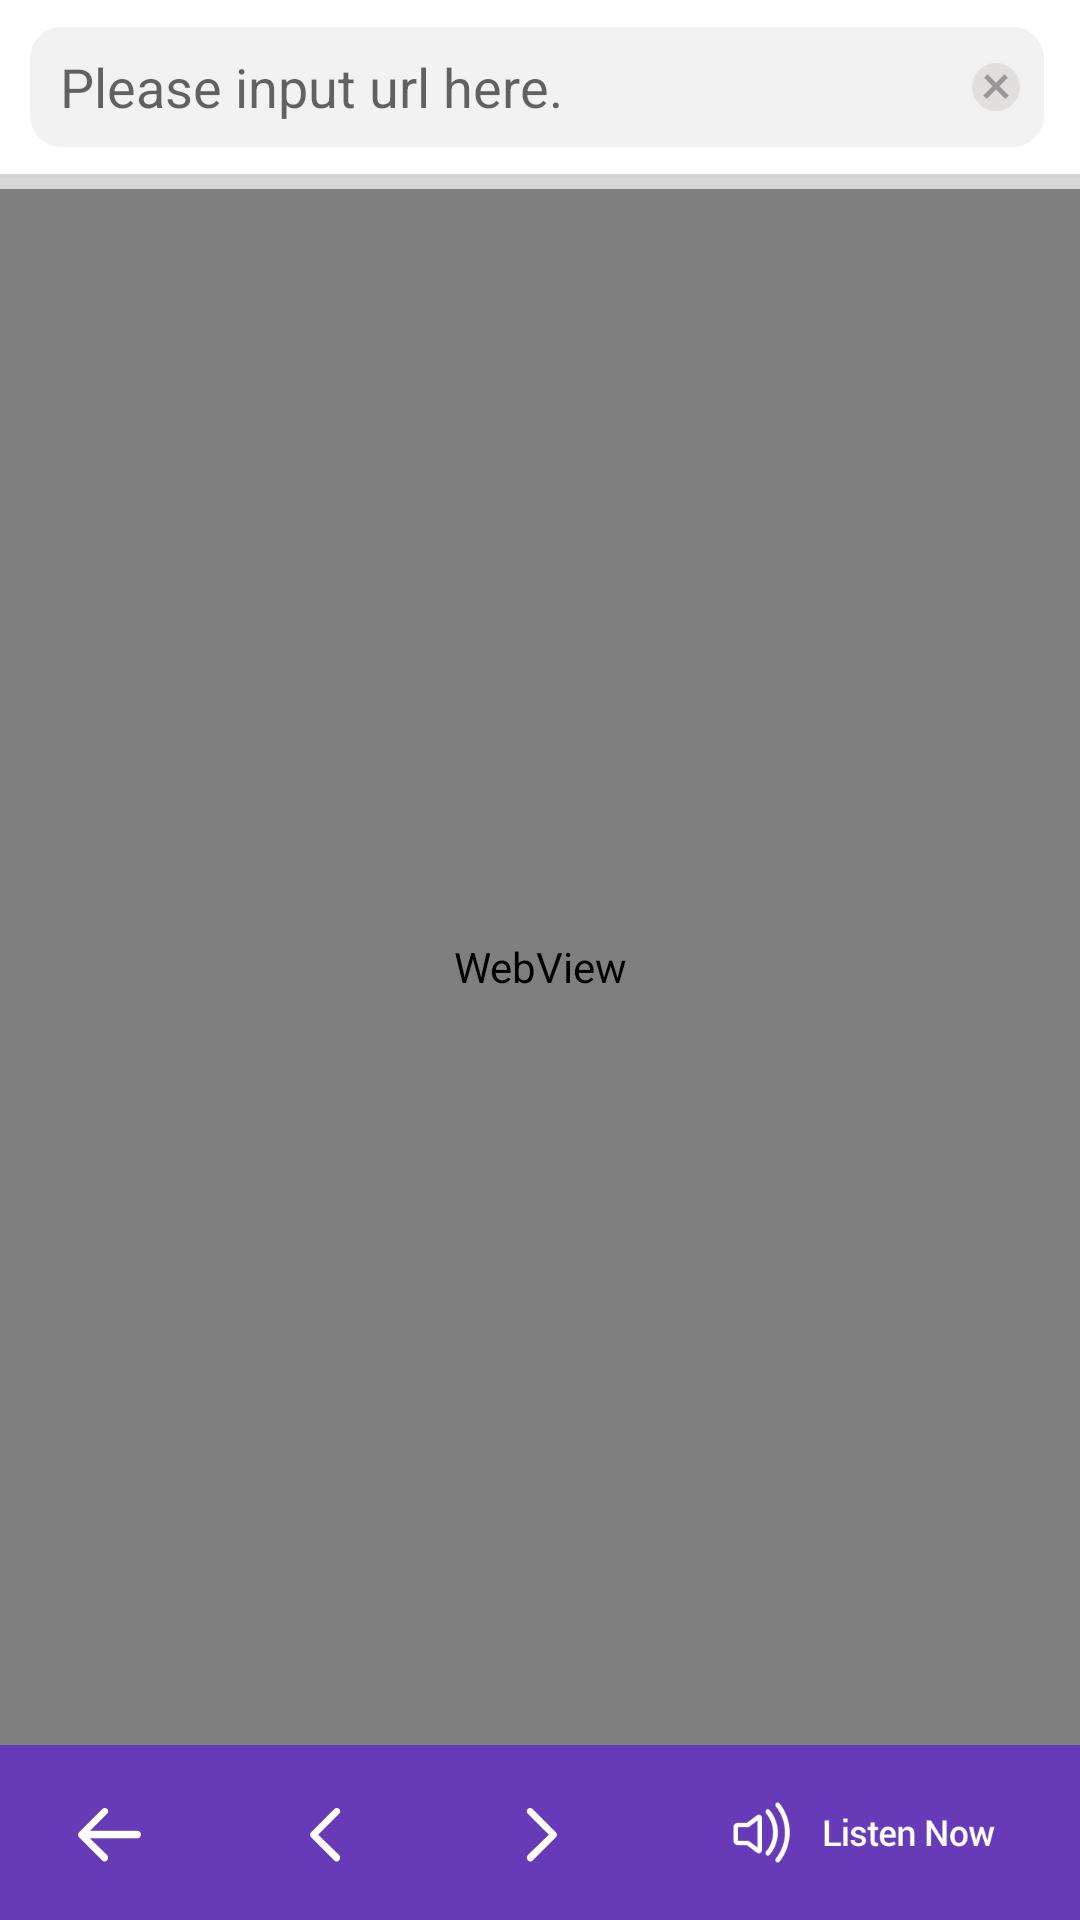

Where icons sit on this 1080w x 1920h app screen, as (x1, y1, x2, y2):
close: (972, 63, 1020, 111)
next: (526, 1808, 557, 1862)
prev: (310, 1808, 341, 1862)
